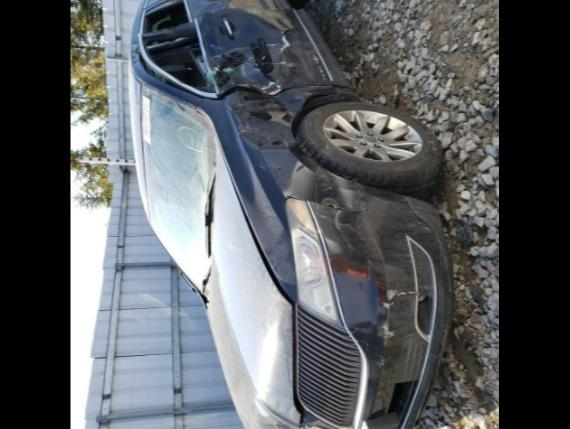Broken part: (196, 84, 366, 308), (136, 2, 352, 102), (290, 302, 308, 429)
Dent: (310, 178, 372, 242), (196, 0, 225, 14)
Missing part: (146, 26, 214, 84), (142, 0, 190, 30)
Scratch: (216, 38, 276, 60), (322, 200, 364, 216), (258, 78, 290, 94), (386, 286, 416, 302), (378, 318, 398, 342), (352, 334, 376, 352), (258, 58, 298, 68), (374, 352, 388, 368), (348, 324, 370, 334), (278, 32, 290, 50), (380, 300, 397, 310), (208, 42, 224, 50), (258, 52, 268, 62)
